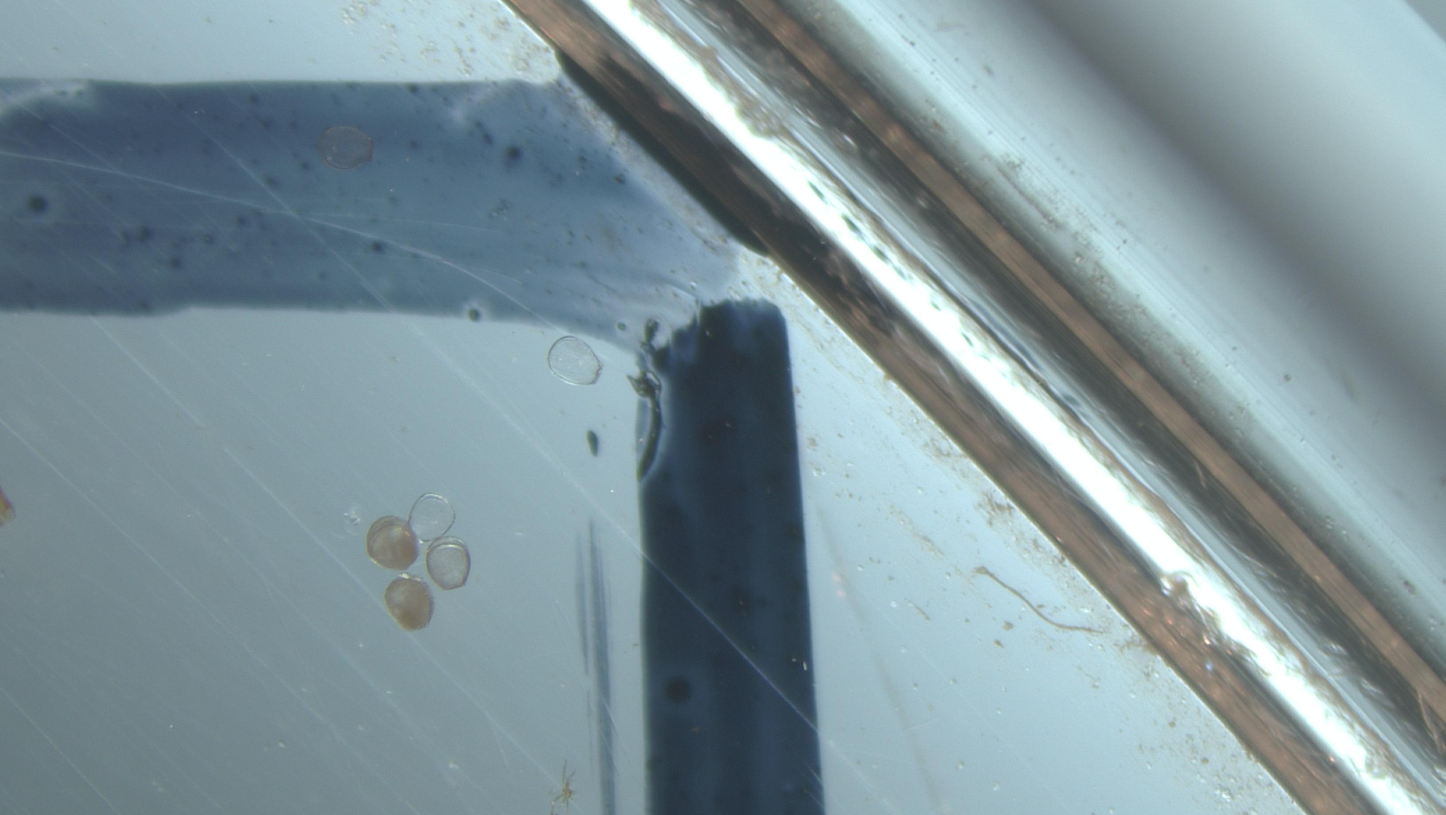dead: (408, 494, 471, 590), (547, 336, 602, 385), (319, 127, 373, 169)
live: (367, 516, 433, 631)
